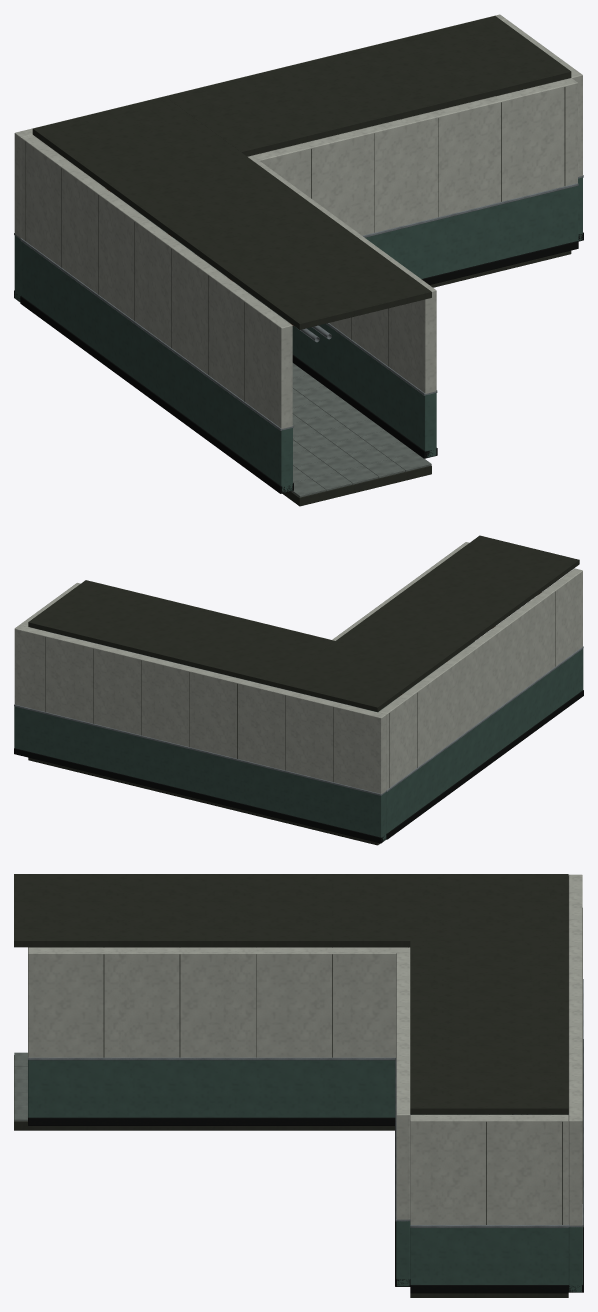
File: Lab_Corridor.fbx
3 renders of one model, top to bottom at view 1: azimuth 30°, elevation 25°; view 2: azimuth 150°, elevation 25°; view 3: azimuth 270°, elevation 25°, orthographic. The views are drawn at different scales.
Parts seen in each view (by area): view 1: Lab_Corridor_walls, Lab_Corridor_ceiling, Lab_Corridor_floor; view 2: Lab_Corridor_walls, Lab_Corridor_ceiling, Lab_Corridor_floor; view 3: Lab_Corridor_walls, Lab_Corridor_ceiling, Lab_Corridor_floor.
Boxes of the visible parts, x1,y1,x2,y2 form: Lab_Corridor_walls: (14, 14, 583, 493); Lab_Corridor_ceiling: (32, 16, 571, 329); Lab_Corridor_floor: (204, 250, 571, 506); Lab_Corridor_walls: (14, 542, 583, 843); Lab_Corridor_ceiling: (28, 535, 579, 711); Lab_Corridor_floor: (28, 757, 379, 845); Lab_Corridor_walls: (28, 874, 583, 1293); Lab_Corridor_ceiling: (14, 874, 568, 1114); Lab_Corridor_floor: (14, 1052, 568, 1297).
Size of the model in its own units: 9.23 by 3.3 by 8.99.
9 materials, 9 textured.
